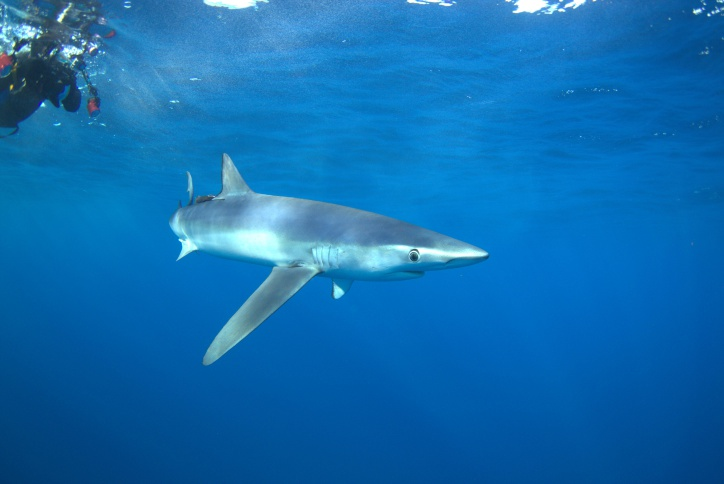Azul: (157, 138, 519, 386)
